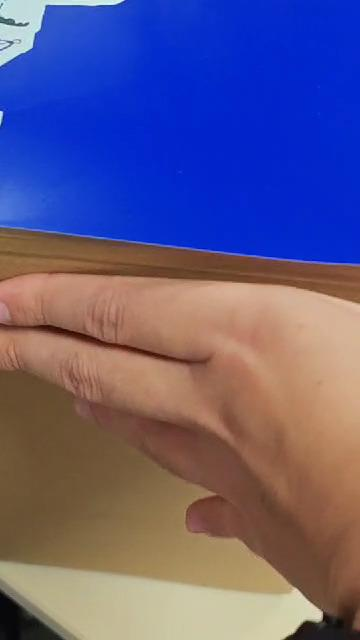B_R1: (0, 0, 154, 139)
